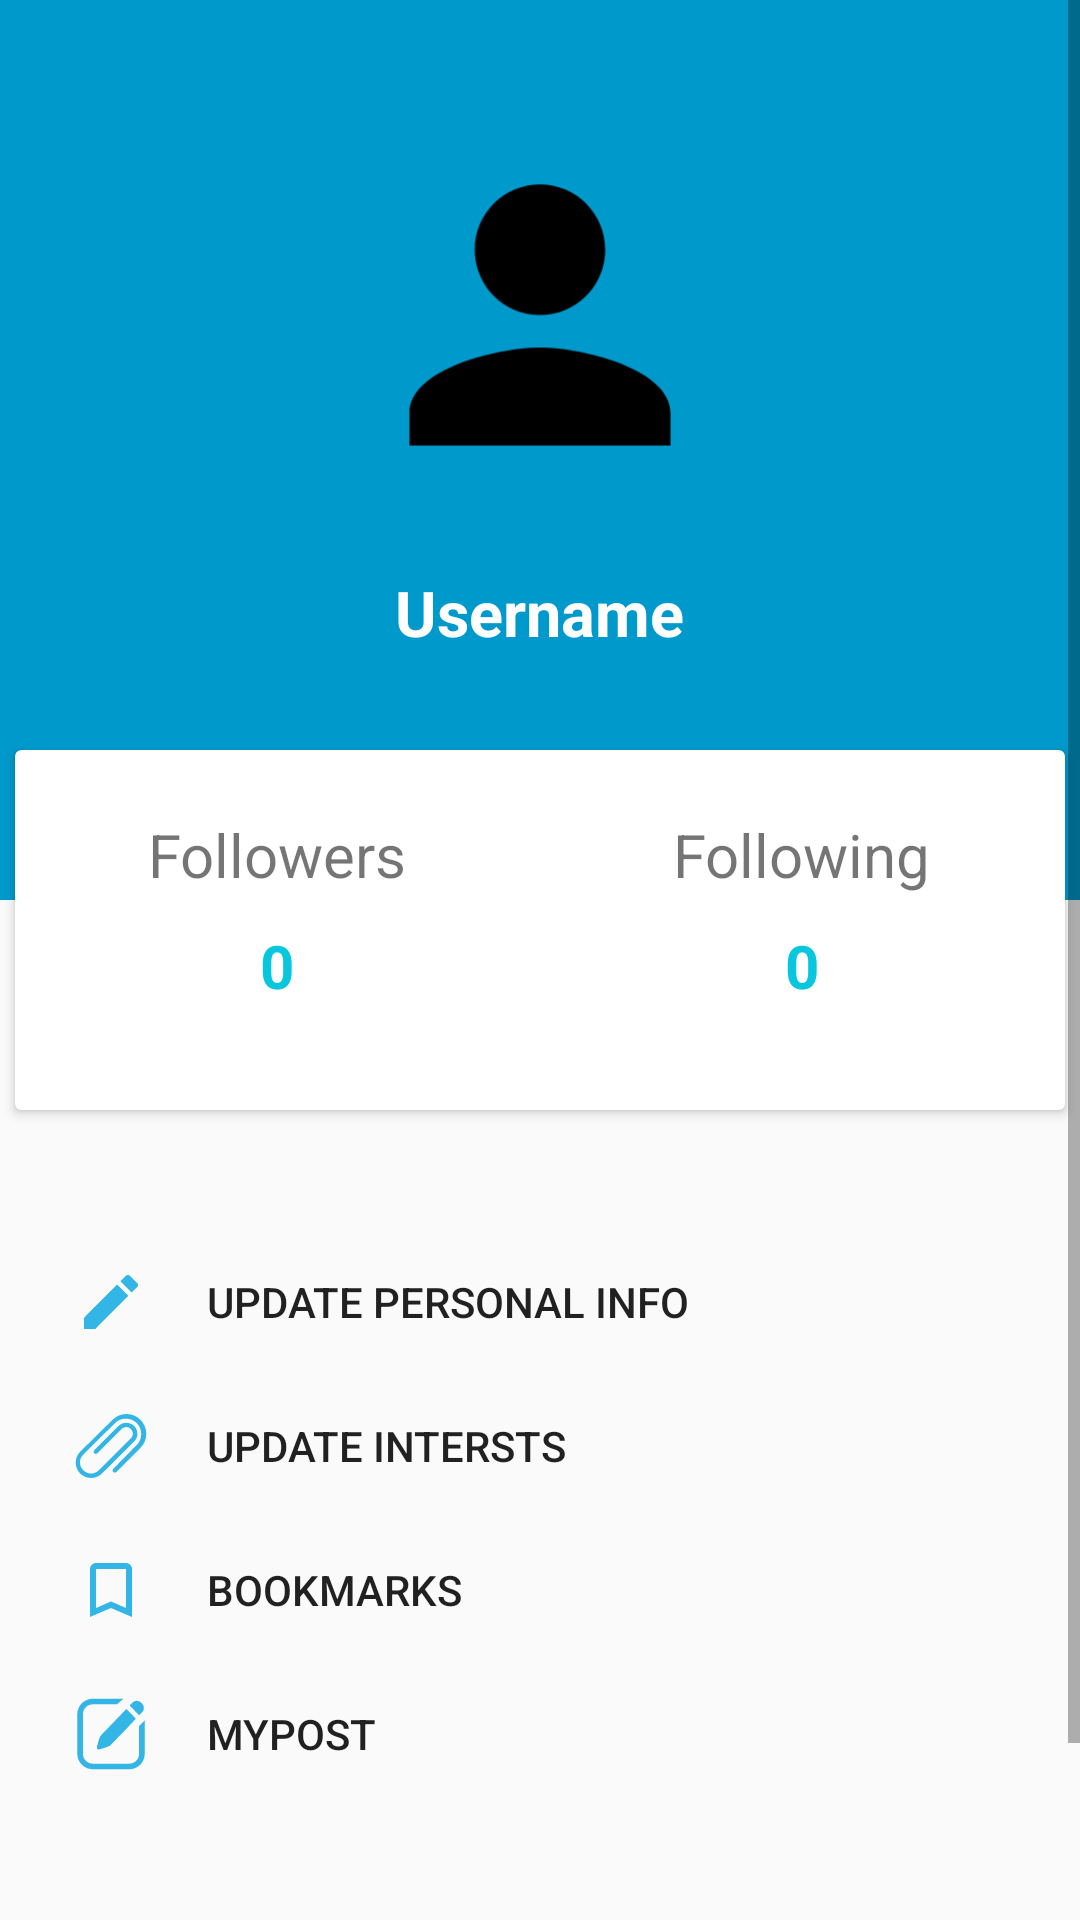

Icons on this 1080×1920 Android screen, each with its box as (x1, y1, x2, y2):
bookmark border: (90, 1563, 132, 1617)
edit: (84, 1275, 138, 1329)
edit post: (77, 1698, 145, 1770)
profile: (409, 184, 671, 446)
